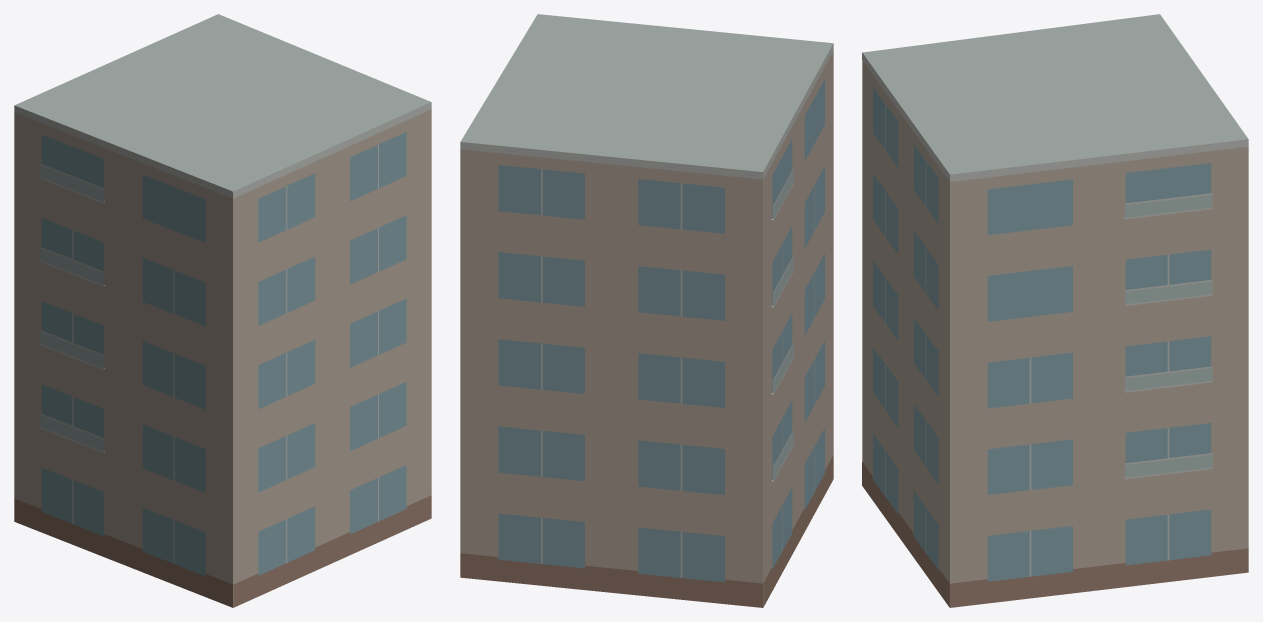
The model's file is survey-upis-32702107.glb.
3 views of the same model, side by side, from view 1: azimuth 30°, elevation 25°; view 2: azimuth 150°, elevation 25°; view 3: azimuth 270°, elevation 25° (orthographic). The views are drawn at different scales.
Parts seen in each view (by area): view 1: survey-upis-32702107.tmp; view 2: survey-upis-32702107.tmp; view 3: survey-upis-32702107.tmp.
Part boxes in pixels (x1,y1,x2,y2): survey-upis-32702107.tmp: (14, 14, 431, 607); survey-upis-32702107.tmp: (460, 14, 833, 607); survey-upis-32702107.tmp: (862, 14, 1248, 607).
Bounding box in the file's own units: 11.38 × 14.3 × 11.57.
